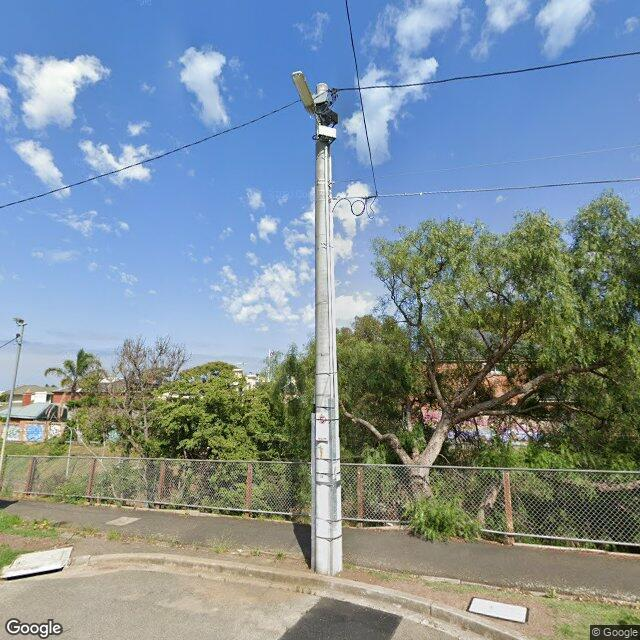concrete-pole: (310, 82, 343, 575)
steel-pole: (0, 325, 25, 482)
streetlight: (292, 71, 321, 125)
